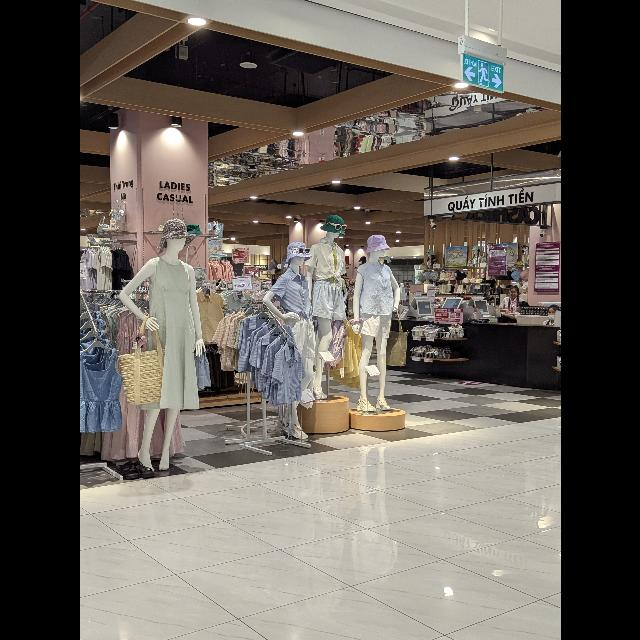exit: (461, 53, 503, 92)
